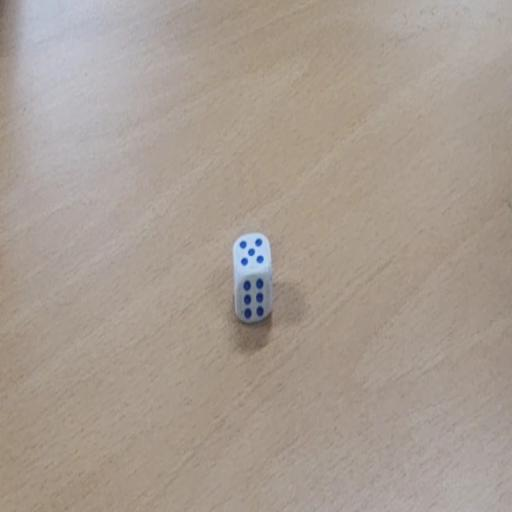dice_5: (232, 231, 274, 324)
